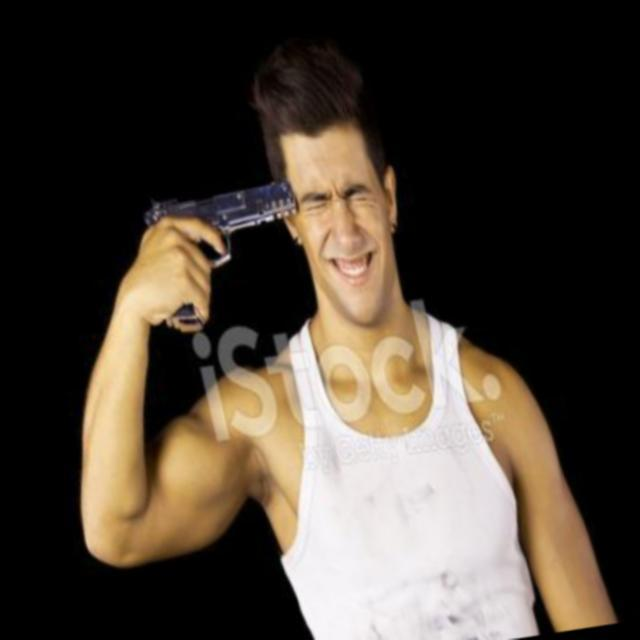weapon: (118, 156, 332, 351)
